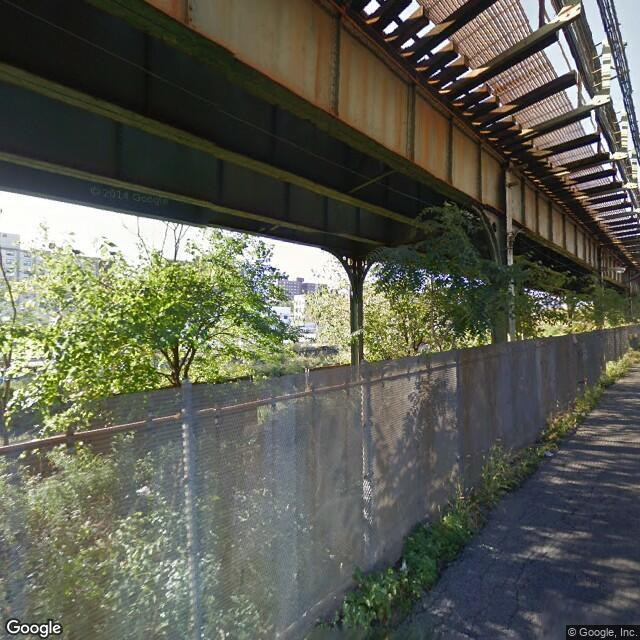litter: (544, 451, 550, 455)
